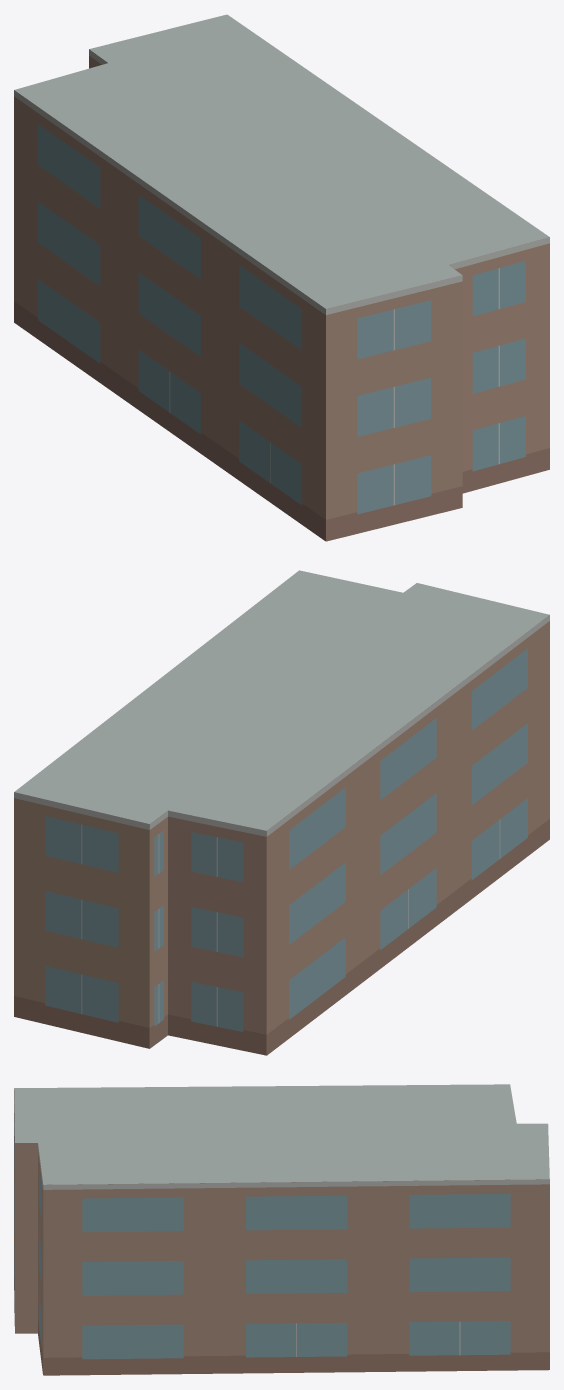
File: survey-upis-32574296.glb
3 views of the same model, one above another, from view 1: azimuth 30°, elevation 25°; view 2: azimuth 150°, elevation 25°; view 3: azimuth 270°, elevation 25° (orthographic). The views are drawn at different scales.
Visible parts, largest first — view 1: survey-upis-32574296.tmp; view 2: survey-upis-32574296.tmp; view 3: survey-upis-32574296.tmp.
Boxes of the visible parts, x1,y1,x2,y2 form: survey-upis-32574296.tmp: [14, 14, 549, 541]; survey-upis-32574296.tmp: [14, 570, 549, 1055]; survey-upis-32574296.tmp: [14, 1084, 549, 1375].
Size of the model in its own units: 10.35 by 9.15 by 23.3.
